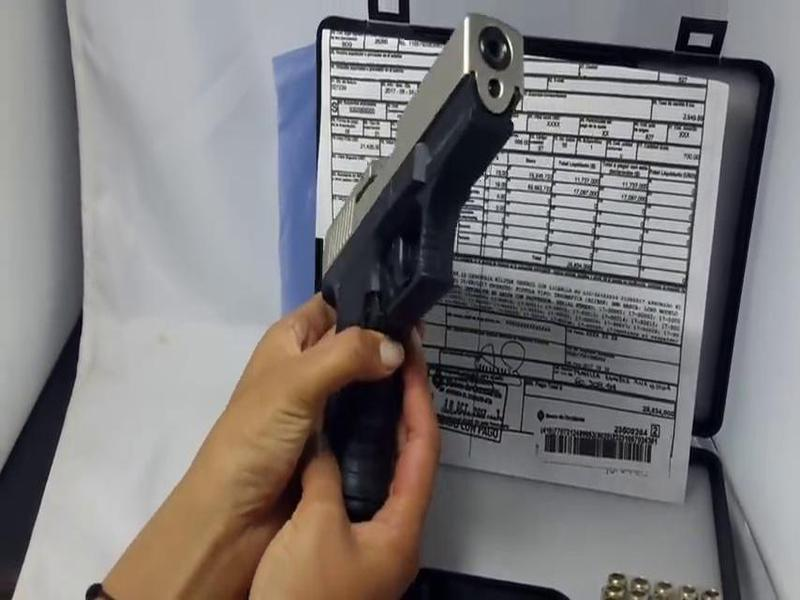Pistola: (266, 10, 568, 524)
